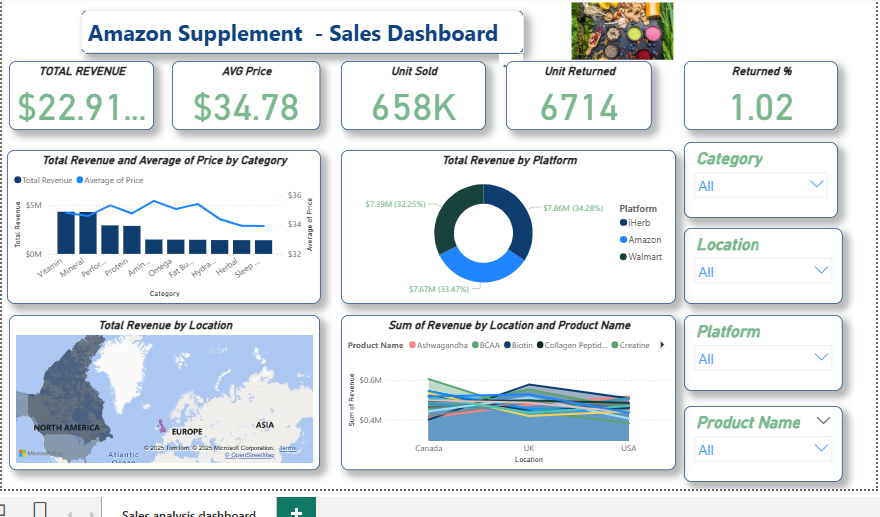

This screenshot's page, from the dashboard's own definition file:
{"tool":"powerbi","page":{"name":"Sales analysis dashboard","canvas":[1280,720],"ordinal":0},"visuals":[{"type":"textbox","box":[115.9,18.5,648.4,63.8],"z":0},{"type":"image","box":[740.8,3.4,334.3,94.1],"z":1000},{"type":"card","title":"TOTAL REVENUE","fields":{"Values":["Sum(Supplement_Sales_Weekly_Expanded.Revenue)"]},"box":[10.1,94.1,211.7,100.8],"z":2000},{"type":"card","title":"AVG Price","fields":{"Values":["Avg(Supplement_Sales_Weekly_Expanded.Price)"]},"box":[248.6,94.1,216.7,100.8],"z":3000},{"type":"card","title":"Unit Sold","fields":{"Values":["Sum(Supplement_Sales_Weekly_Expanded.Units Sold)"]},"box":[495.5,94.1,211.7,100.8],"z":4000},{"type":"card","title":"Unit Returned","fields":{"Values":["Sum(Supplement_Sales_Weekly_Expanded.Units Returned)"]},"box":[737.4,94.1,213.3,100.8],"z":5000},{"type":"card","title":" Returned %","fields":{"Values":["Supplement_Sales_Weekly_Expanded.Return %"]},"box":[997.8,94.1,225.1,100.8],"z":6000},{"type":"slicer","fields":{"Values":["Supplement_Sales_Weekly_Expanded.Category"]},"box":[997.8,211.7,225.1,110.9],"z":7000},{"type":"slicer","fields":{"Values":["Supplement_Sales_Weekly_Expanded.Location"]},"box":[997.8,337.6,231.8,110.9],"z":8000},{"type":"slicer","fields":{"Values":["Supplement_Sales_Weekly_Expanded.Platform"]},"box":[997.8,465.3,231.8,110.9],"z":9000},{"type":"slicer","fields":{"Values":["Supplement_Sales_Weekly_Expanded.Product Name"]},"box":[997.8,598,231.8,110.9],"z":10000},{"type":"lineStackedColumnComboChart","fields":{"Category":["Supplement_Sales_Weekly_Expanded.Category"],"Y":["Sum(Supplement_Sales_Weekly_Expanded.Revenue)"],"Y2":["Avg(Supplement_Sales_Weekly_Expanded.Price)"]},"box":[6.7,223.4,458.6,225.1],"z":11000},{"type":"donutChart","fields":{"Category":["Supplement_Sales_Weekly_Expanded.Platform"],"Y":["Sum(Supplement_Sales_Weekly_Expanded.Revenue)"]},"box":[495.5,223.4,490.5,225.1],"z":12000},{"type":"filledMap","fields":{"Category":["Supplement_Sales_Weekly_Expanded.Location"]},"box":[10.1,465.3,455.2,226.8],"z":13000},{"type":"areaChart","fields":{"Category":["Supplement_Sales_Weekly_Expanded.Location"],"Y":["Sum(Supplement_Sales_Weekly_Expanded.Revenue)"],"Series":["Supplement_Sales_Weekly_Expanded.Product Name"]},"box":[495.5,465.3,490.5,226.8],"z":14000}]}

Visuals, with their boxes in screenshot pixels (x1, y1, x2, y2):
textbox: bbox=[81, 10, 520, 54]
image: bbox=[505, 0, 731, 64]
"TOTAL REVENUE" card: bbox=[9, 62, 153, 130]
"AVG Price" card: bbox=[171, 62, 318, 130]
"Unit Sold" card: bbox=[338, 62, 482, 130]
"Unit Returned" card: bbox=[502, 62, 647, 130]
" Returned %" card: bbox=[679, 62, 831, 130]
slicer - Supplement_Sales_Weekly_Expanded.Category: bbox=[679, 141, 831, 216]
slicer - Supplement_Sales_Weekly_Expanded.Location: bbox=[679, 227, 836, 302]
slicer - Supplement_Sales_Weekly_Expanded.Platform: bbox=[679, 313, 836, 388]
slicer - Supplement_Sales_Weekly_Expanded.Product Name: bbox=[679, 403, 836, 478]
lineStackedColumnComboChart - Supplement_Sales_Weekly_Expanded.Category x Sum(Supplement_Sales_Weekly_Expanded.Revenue): bbox=[7, 149, 318, 302]
donutChart - Supplement_Sales_Weekly_Expanded.Platform x Sum(Supplement_Sales_Weekly_Expanded.Revenue): bbox=[338, 149, 671, 302]
filledMap - Supplement_Sales_Weekly_Expanded.Location: bbox=[9, 313, 318, 467]
areaChart - Supplement_Sales_Weekly_Expanded.Location x Sum(Supplement_Sales_Weekly_Expanded.Revenue): bbox=[338, 313, 671, 467]
